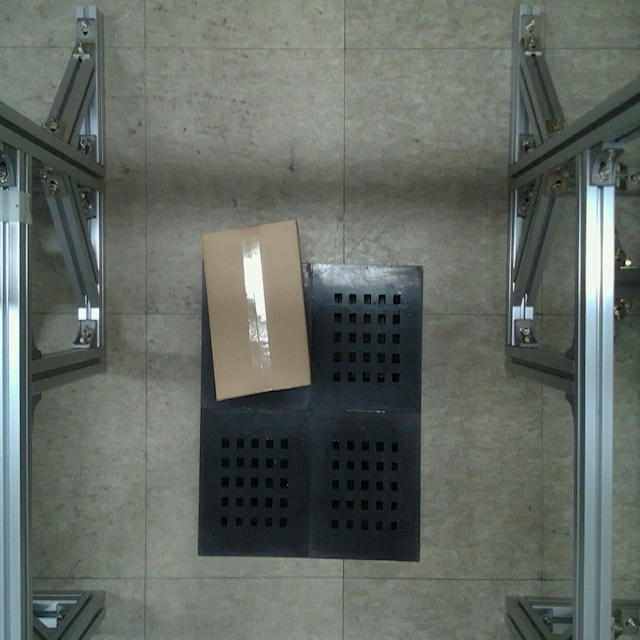box: (203, 219, 311, 403)
pallet: (199, 261, 426, 569)
